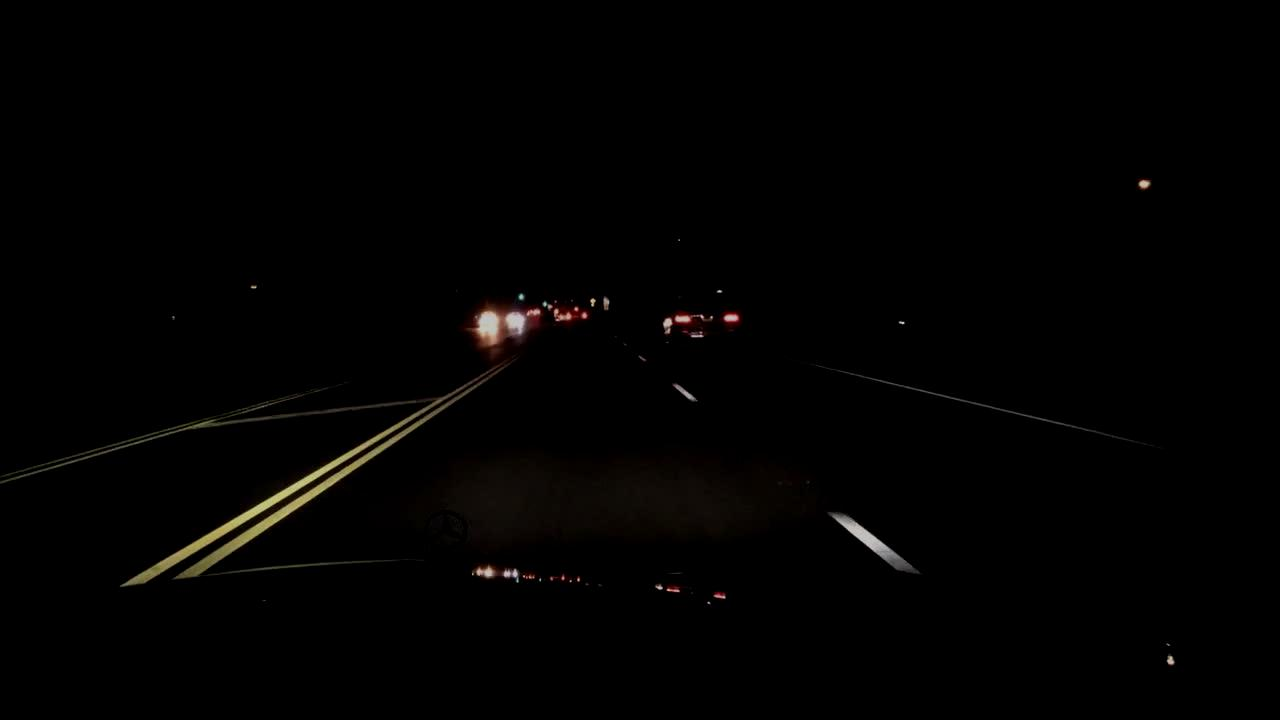Mercedes: (417, 496, 479, 559)
